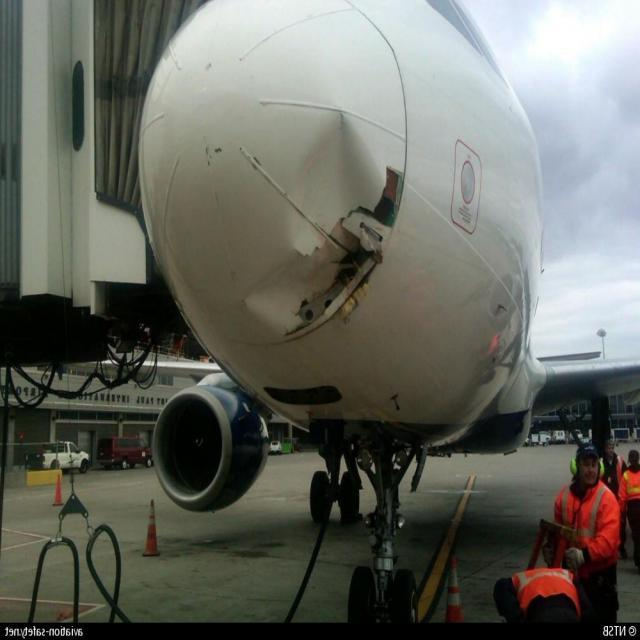dent: (295, 110, 380, 251), (246, 263, 328, 331)
